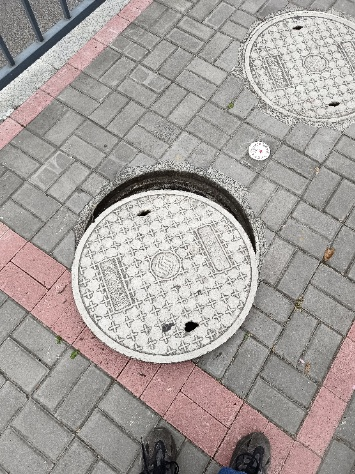good: (244, 10, 355, 126)
uncovered: (71, 161, 268, 362)
